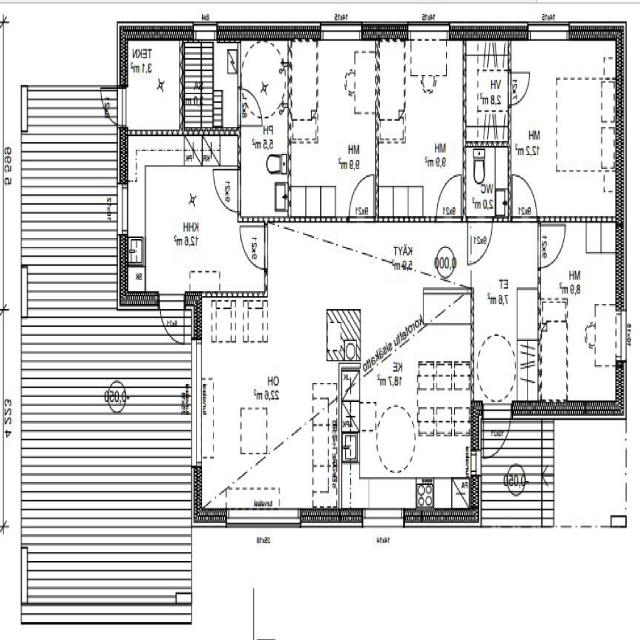door: (483, 401, 511, 467), (160, 291, 184, 351), (96, 88, 128, 127), (349, 173, 374, 222), (213, 169, 241, 212), (538, 225, 566, 268), (513, 174, 537, 222), (468, 216, 492, 264), (437, 174, 461, 222), (240, 227, 268, 268), (238, 89, 262, 126), (508, 72, 530, 104)
